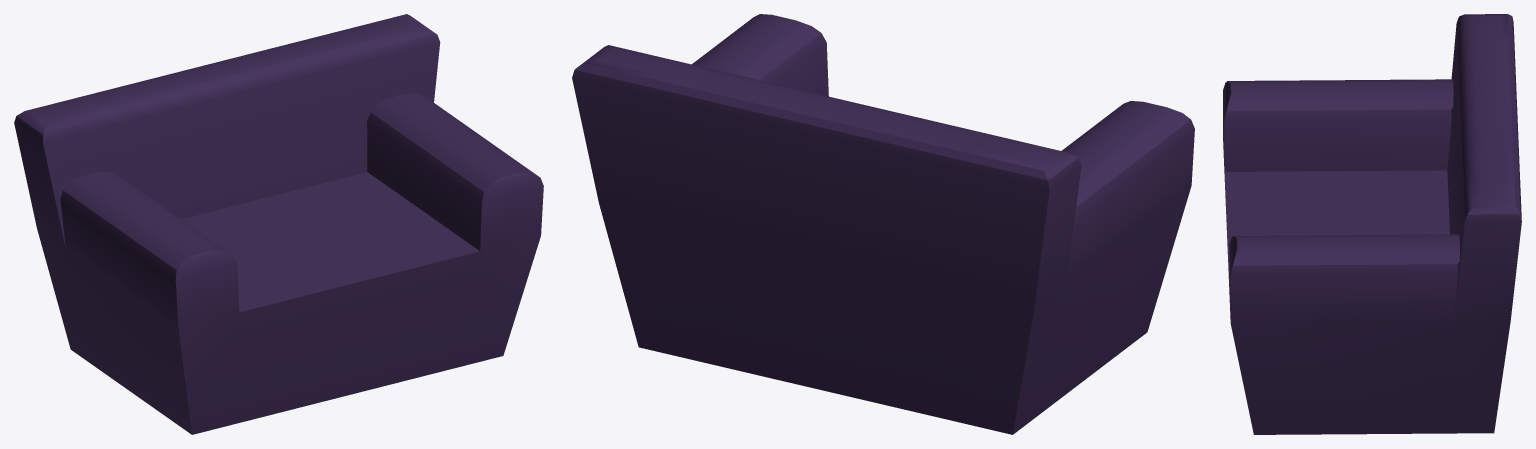
Rendered from armChair.fbx.
3 views of the same model, side by side, from view 1: azimuth 30°, elevation 25°; view 2: azimuth 150°, elevation 25°; view 3: azimuth 270°, elevation 25° (orthographic). The views are drawn at different scales.
Visible parts, largest first — view 1: Arm Chair; view 2: Arm Chair; view 3: Arm Chair.
Part boxes in pixels (left/top/right/bottom): Arm Chair: left=14, top=14, right=543, bottom=434; Arm Chair: left=572, top=14, right=1194, bottom=434; Arm Chair: left=1223, top=14, right=1521, bottom=434.
Size of what is drawn, in the model's own units: 123 by 70.93 by 77.85.
